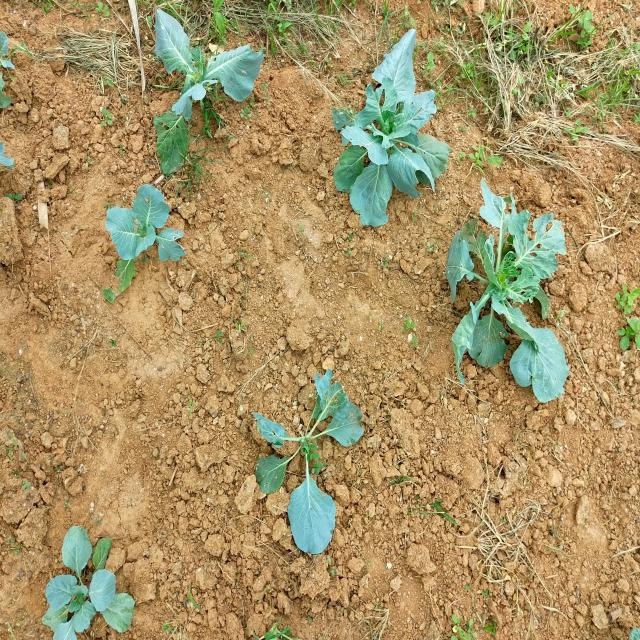Cabbage: (229, 377, 397, 565), (435, 165, 565, 401), (328, 35, 457, 234), (34, 512, 140, 638), (150, 6, 268, 115), (100, 176, 190, 275)
